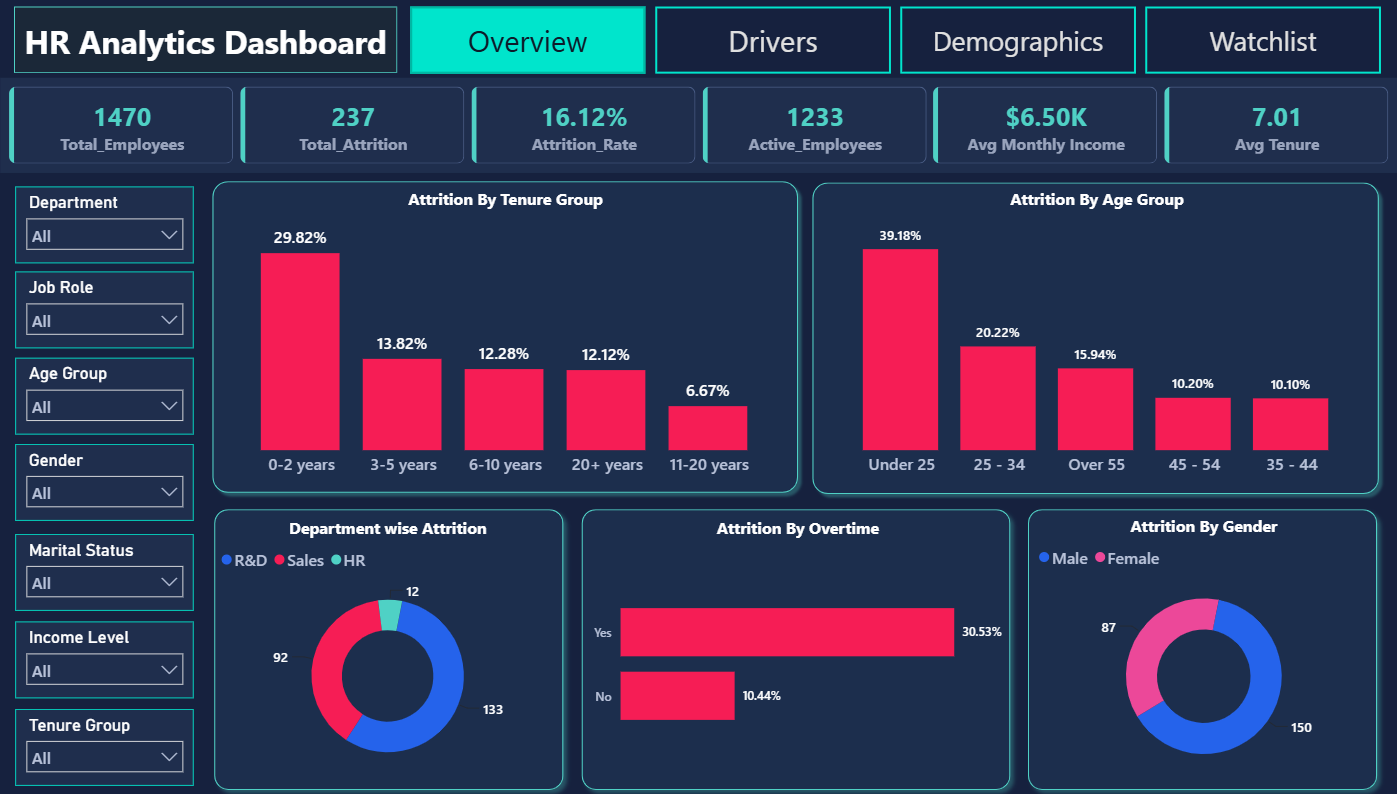

This screenshot's page, from the dashboard's own definition file:
{"tool":"powerbi","page":{"name":"Overview","canvas":[1400,800],"ordinal":0},"visuals":[{"type":"shape","box":[1020.5,501.4,367.1,298.6],"z":0},{"type":"shape","box":[574,501.4,446.6,298.6],"z":1000},{"type":"shape","box":[806.8,176.7,580.8,326],"z":2000},{"type":"shape","box":[206.8,501.4,367.1,298.6],"z":3000},{"type":"shape","box":[206.8,175.3,600,326],"z":4000},{"type":"cardVisual","fields":{"Data":["public hr_attrition.Total_Employees","public hr_attrition.Total_Attrition","public hr_attrition.Attrition_Rate","public hr_attrition.Active_Employees","public hr_attrition.Avg Monthly Income","public hr_attrition.Avg Tenure","public hr_attrition.Active_Employees"]},"box":[1.4,79.2,1398.6,95.8],"z":5000},{"type":"donutChart","title":"Department wise Attrition ","fields":{"Category":["public hr_attrition.department"],"Y":["public hr_attrition.Total_Attrition"]},"box":[216.4,517.8,345.2,265.8],"z":6000},{"type":"clusteredColumnChart","title":"Attrition By Tenure Group","fields":{"Y":["public hr_attrition.Attrition_Rate"],"Category":["public hr_attrition.tenure_group"]},"box":[216.4,189,580.8,298.6],"z":7000},{"type":"shape","box":[15.3,6.9,383.3,66.7],"z":8000},{"type":"textbox","box":[15.3,16.7,383.3,56.9],"z":9000},{"type":"clusteredBarChart","title":"Attrition By Overtime","fields":{"Category":["public hr_attrition.over_time"],"Y":["public hr_attrition.Attrition_Rate"]},"box":[589,517.8,420.5,268.5],"z":10000},{"type":"columnChart","title":"Attrition By Age Group","fields":{"Category":["public hr_attrition.age_group"],"Y":["public hr_attrition.Attrition_Rate"]},"box":[820.5,189,556.2,298.6],"z":11000},{"type":"donutChart","title":"Attrition By Gender","fields":{"Category":["public hr_attrition.gender"],"Y":["public hr_attrition.Total_Attrition"]},"box":[1034.2,515.1,342.5,271.2],"z":12000},{"type":"slicer","fields":{"Values":["public hr_attrition.department"]},"box":[15.7,187.1,178.6,77.1],"z":13000},{"type":"slicer","fields":{"Values":["public hr_attrition.job_role"]},"box":[15.7,273,178.6,77.1],"z":14000},{"type":"slicer","fields":{"Values":["public hr_attrition.age_group"]},"box":[15.7,359,178.6,77.1],"z":15000},{"type":"slicer","fields":{"Values":["public hr_attrition.gender"]},"box":[15.7,445,178.6,77.1],"z":16000},{"type":"slicer","fields":{"Values":["public hr_attrition.marital_status"]},"box":[15.7,535,178.6,77.1],"z":17000},{"type":"slicer","fields":{"Values":["public hr_attrition.income_level"]},"box":[15.7,623,178.6,77.1],"z":18000},{"type":"slicer","fields":{"Values":["public hr_attrition.tenure_group"]},"box":[15.7,710,178.6,77.1],"z":19000},{"type":"actionButton","box":[411,7.1,235,67.1],"z":20000},{"type":"actionButton","box":[656,7.1,235.7,67.1],"z":21000},{"type":"actionButton","box":[901,7.1,235.7,67.1],"z":22000},{"type":"actionButton","box":[1146,7.1,235.7,67.1],"z":23000}]}

Visuals, with their boxes in screenshot pixels (x1, y1, x2, y2), scaled from the page's 1400x800 canvas onto the 1397x794 screenshot:
shape: locate(1018, 498, 1385, 793)
shape: locate(573, 498, 1018, 793)
shape: locate(805, 175, 1385, 499)
shape: locate(206, 498, 573, 793)
shape: locate(206, 174, 805, 498)
cardVisual - public hr_attrition.Total_Employees x public hr_attrition.Total_Attrition: locate(1, 79, 1396, 174)
"Department wise Attrition " donutChart: locate(216, 514, 560, 778)
"Attrition By Tenure Group" clusteredColumnChart: locate(216, 188, 795, 484)
shape: locate(15, 7, 398, 73)
textbox: locate(15, 17, 398, 73)
"Attrition By Overtime" clusteredBarChart: locate(588, 514, 1007, 780)
"Attrition By Age Group" columnChart: locate(819, 188, 1374, 484)
"Attrition By Gender" donutChart: locate(1032, 511, 1374, 780)
slicer - public hr_attrition.department: locate(16, 186, 194, 262)
slicer - public hr_attrition.job_role: locate(16, 271, 194, 347)
slicer - public hr_attrition.age_group: locate(16, 356, 194, 433)
slicer - public hr_attrition.gender: locate(16, 442, 194, 518)
slicer - public hr_attrition.marital_status: locate(16, 531, 194, 608)
slicer - public hr_attrition.income_level: locate(16, 618, 194, 695)
slicer - public hr_attrition.tenure_group: locate(16, 705, 194, 781)
actionButton: locate(410, 7, 645, 74)
actionButton: locate(655, 7, 890, 74)
actionButton: locate(899, 7, 1134, 74)
actionButton: locate(1144, 7, 1379, 74)
